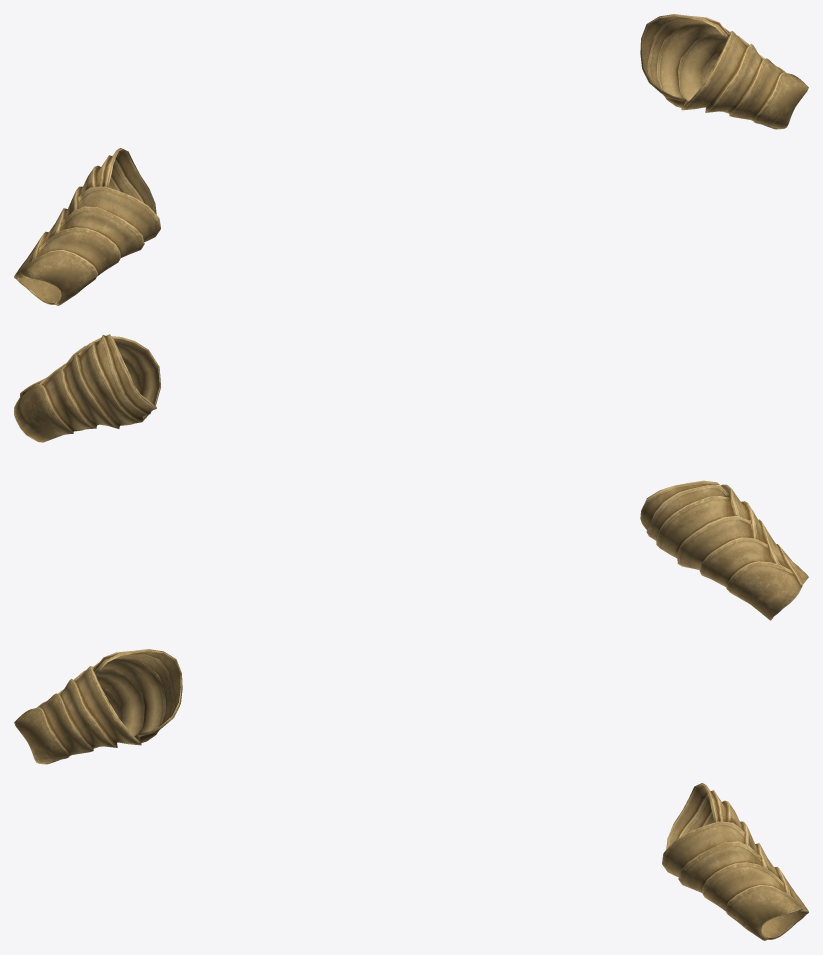
The model's file is rivendell_vambraces_3.fbx.
3 views of the same model, one above another, from view 1: azimuth 30°, elevation 25°; view 2: azimuth 150°, elevation 25°; view 3: azimuth 330°, elevation 25° (orthographic).
Parts seen in each view (by area): view 1: rivendell_vambraces_3; view 2: rivendell_vambraces_3; view 3: rivendell_vambraces_3.
Part boxes in pixels (x1,y1,x2,y2): rivendell_vambraces_3: (14,14,808,305); rivendell_vambraces_3: (14,334,808,620); rivendell_vambraces_3: (14,649,808,940).
Size of the model in its own units: 1.35 by 0.1406 by 0.2036.
Materials: 1 (1 with a texture image).
